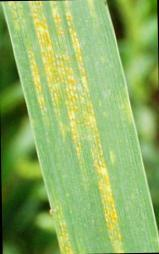Wheat: (14, 0, 107, 109), (77, 141, 133, 254)
